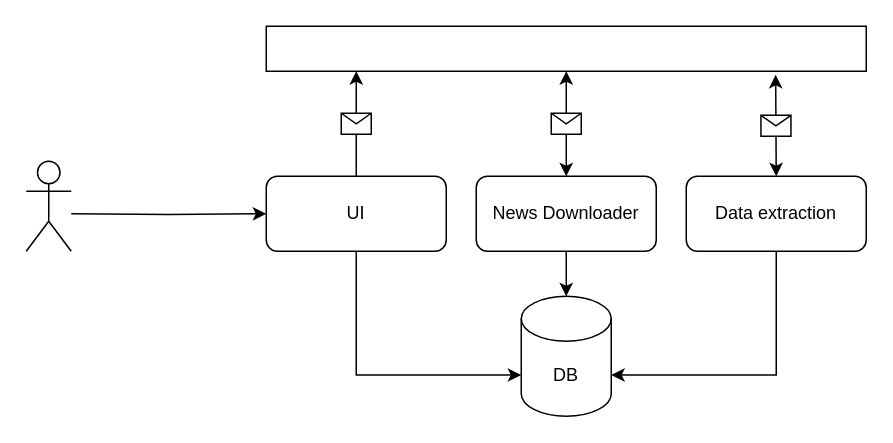
The diagram is 893 pixels wide and 443 high, and some of its shapes have lost their labels. The shapes that lost their labels are listed below. From the top down, each one's centre as x and y in pixels, then its label:
point (565, 48): Message Brocker
point (48, 205): Actor
